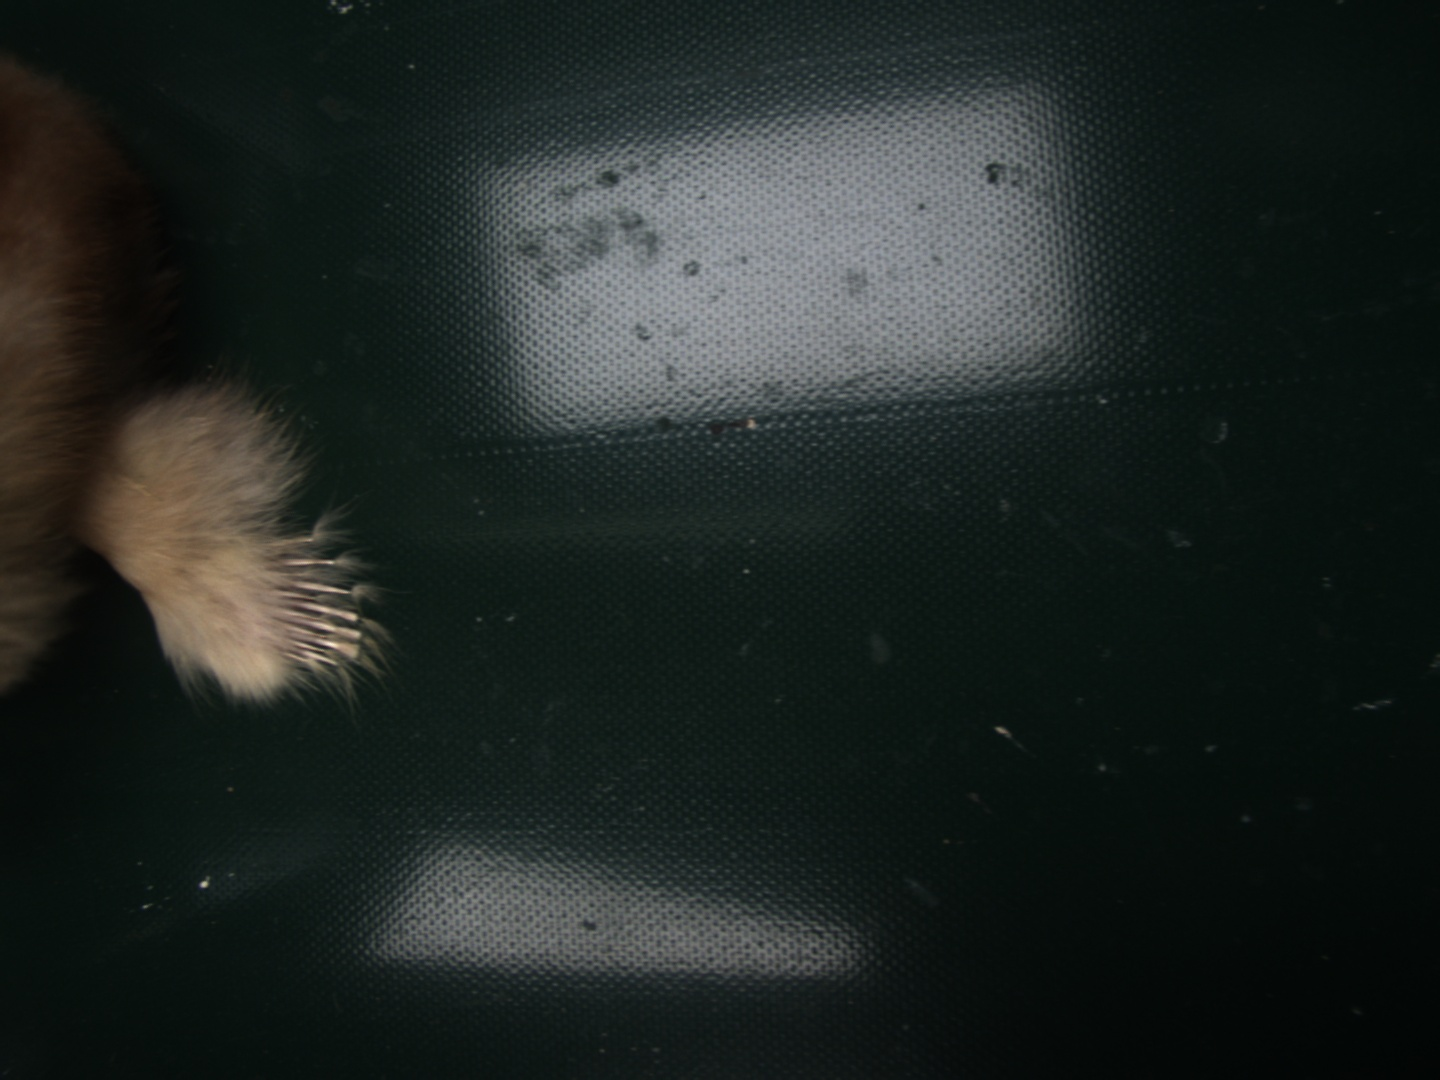female: (260, 534, 362, 672)
